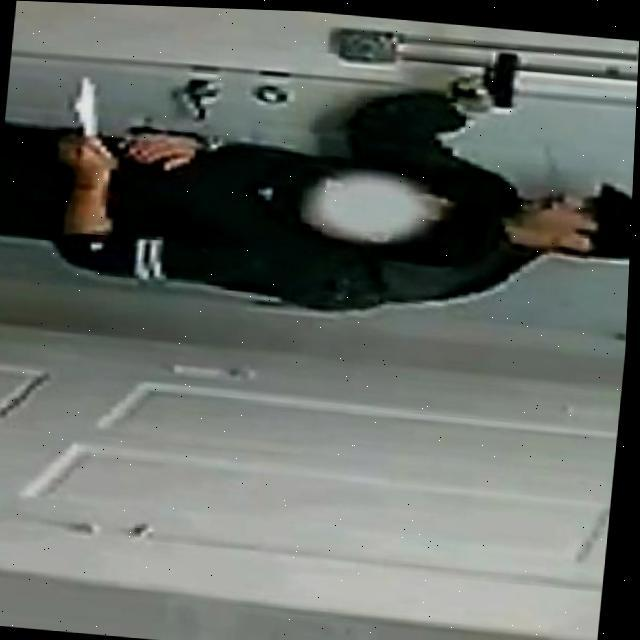gun: (446, 41, 522, 106)
